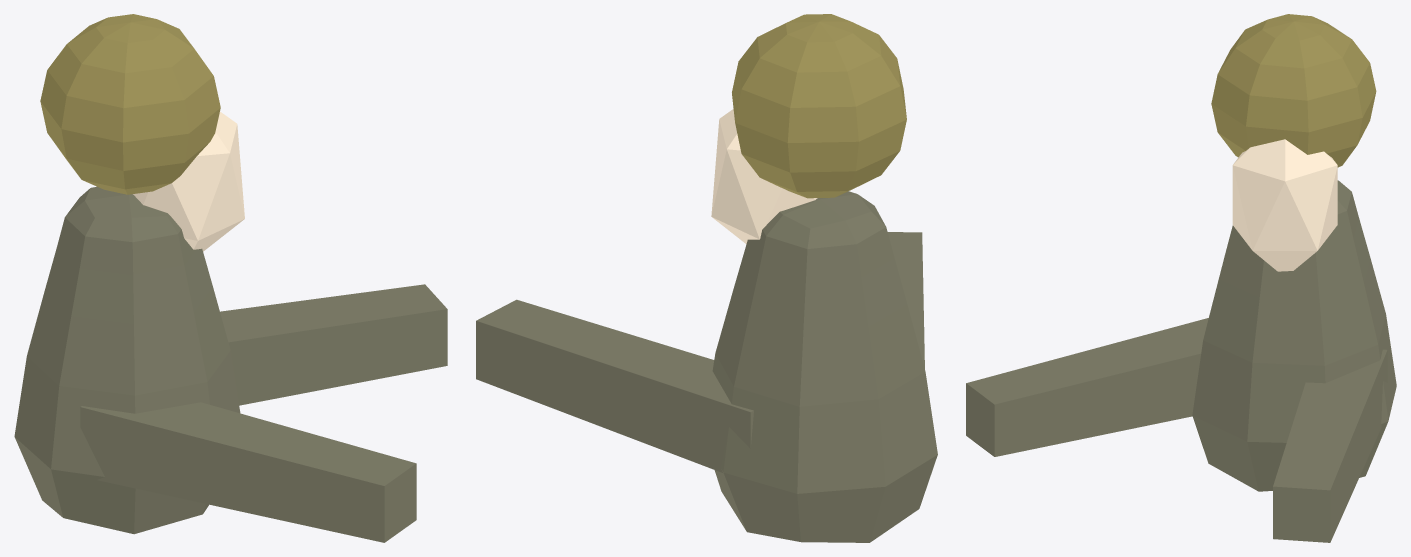
Rendered from grandpa.glb.
3 views of the same model, side by side, from view 1: azimuth 30°, elevation 25°; view 2: azimuth 150°, elevation 25°; view 3: azimuth 270°, elevation 25° (orthographic). The views are drawn at different scales.
Visible parts, largest first — view 1: Cube.057, Cube.056, Sphere.014, Icosphere.112; view 2: Cube.056, Cube.057, Sphere.014, Icosphere.112; view 3: Cube.057, Cube.056, Sphere.014, Icosphere.112.
Boxes of the visible parts, <box> form: Cube.057: <box>80,284,447,542</box>; Cube.056: <box>14,186,240,534</box>; Sphere.014: <box>40,14,220,194</box>; Icosphere.112: <box>133,111,244,251</box>; Cube.056: <box>712,191,937,542</box>; Cube.057: <box>476,232,924,472</box>; Sphere.014: <box>732,14,906,198</box>; Icosphere.112: <box>711,109,817,244</box>; Cube.057: <box>966,318,1387,542</box>; Cube.056: <box>1192,180,1396,491</box>; Sphere.014: <box>1211,14,1376,167</box>; Icosphere.112: <box>1232,139,1337,271</box>.
Bounding box in the file's own units: 0.1367 × 0.1583 × 0.1338.
